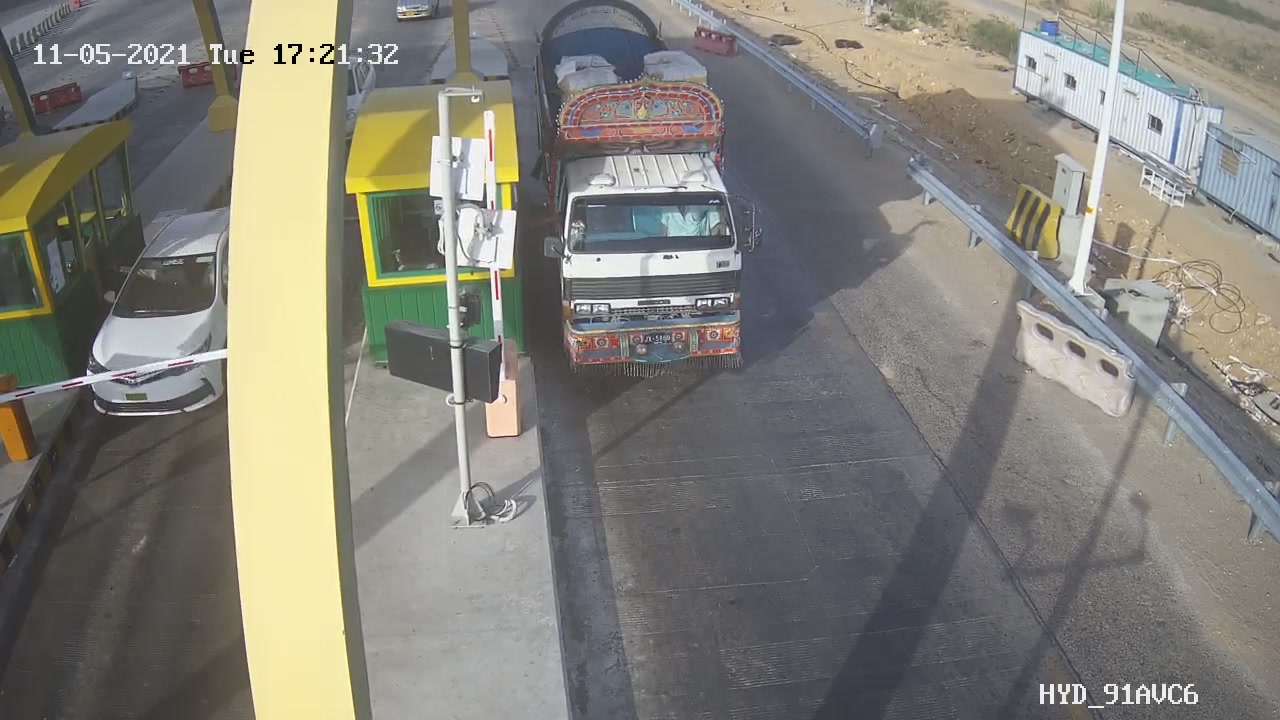F5: (518, 1, 782, 407)
